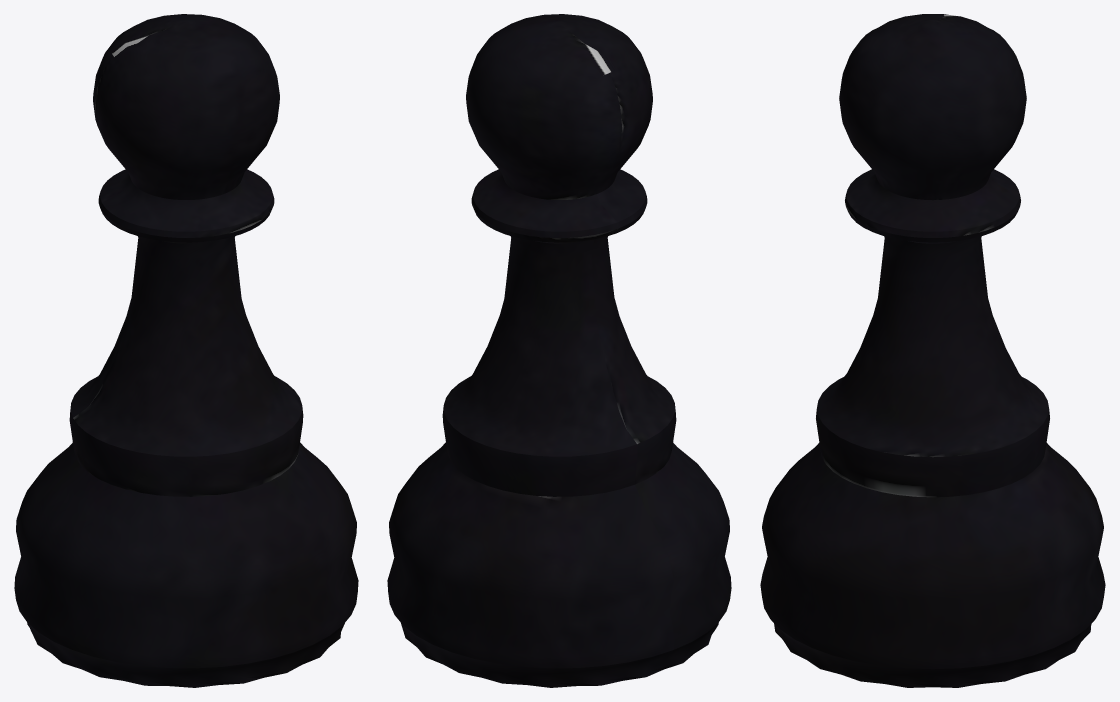
File: peon_Negras.glb
3 renders of one model, left to right at view 1: azimuth 30°, elevation 25°; view 2: azimuth 150°, elevation 25°; view 3: azimuth 270°, elevation 25°, orthographic.
Parts seen in each view (by area): view 1: defaultMaterial.016; view 2: defaultMaterial.016; view 3: defaultMaterial.016.
Part boxes in pixels (x1,y1,x2,y2): defaultMaterial.016: (14,14,358,687); defaultMaterial.016: (387,14,731,687); defaultMaterial.016: (760,14,1105,687).
Bounding box in the file's own units: 0.6094 × 1.17 × 0.6094.
Materials: 1 (1 with a texture image).
